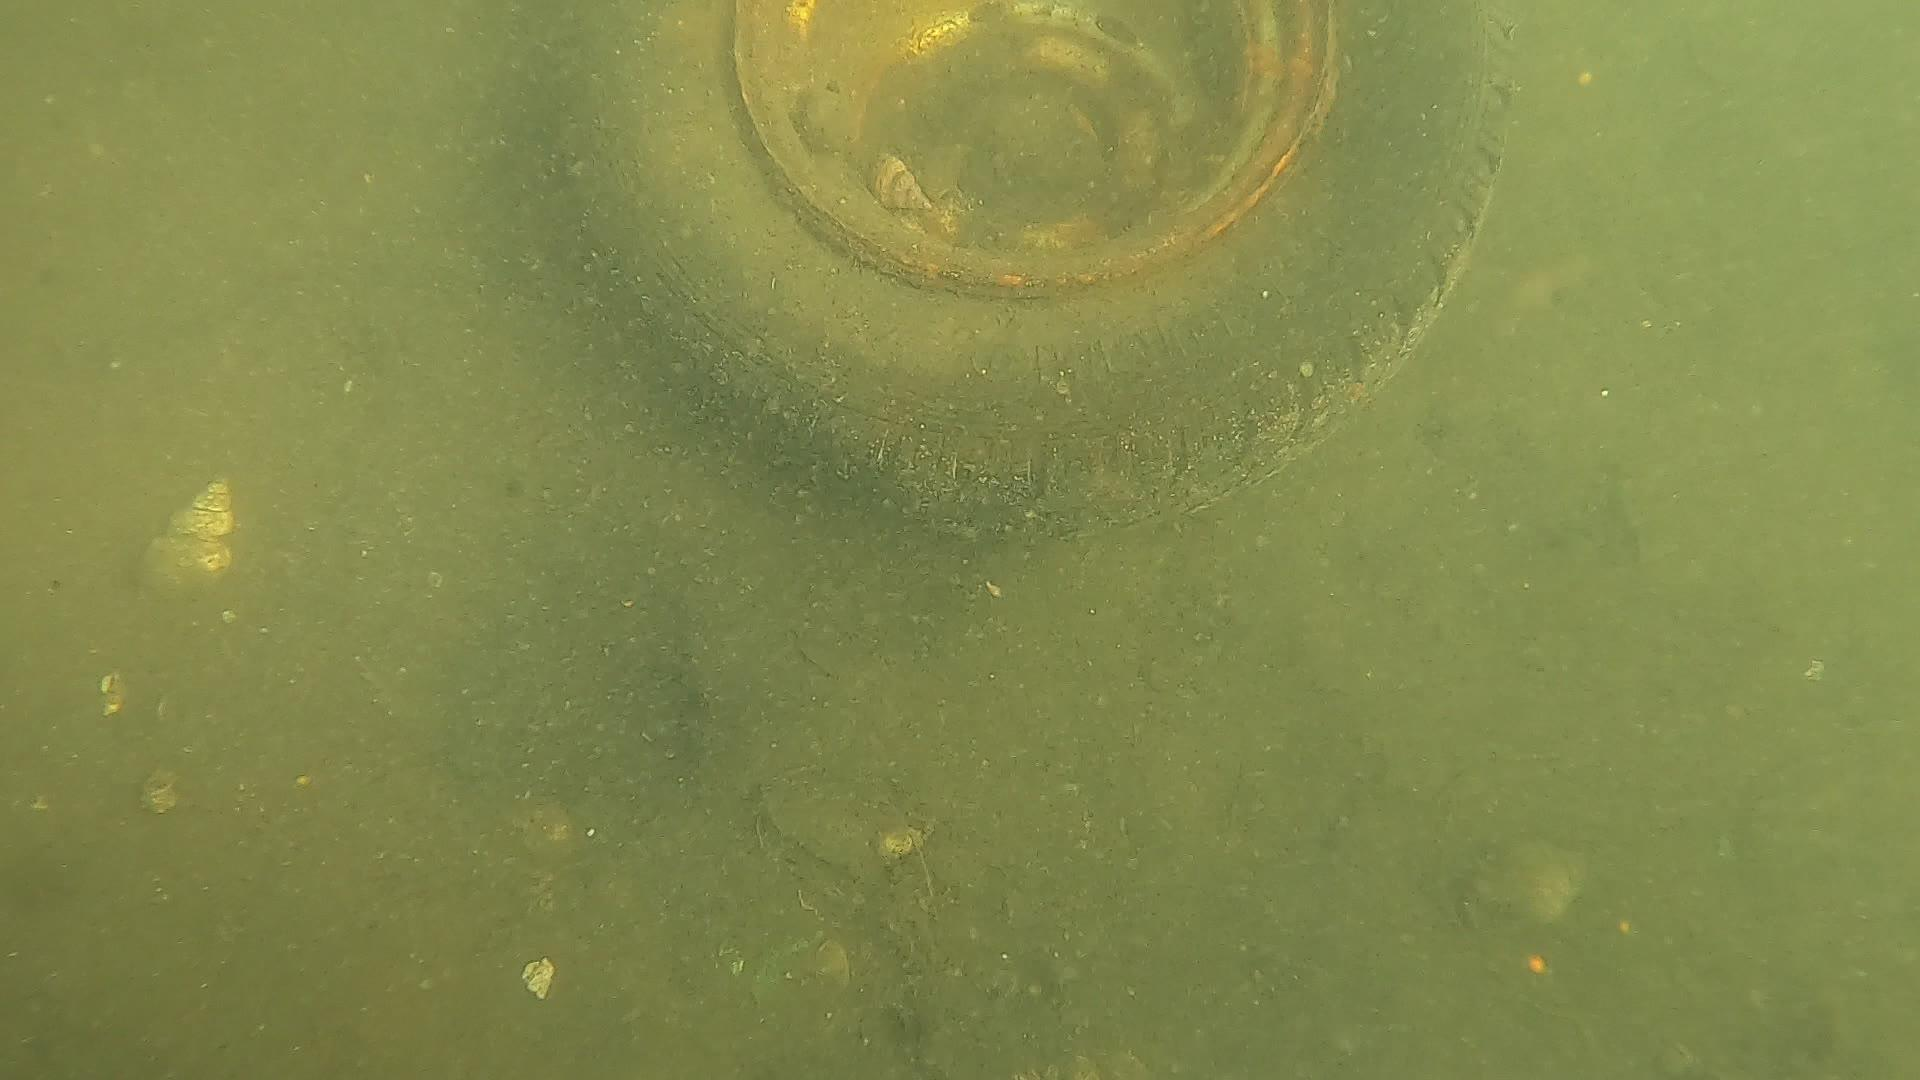tire: (553, 0, 1518, 547)
